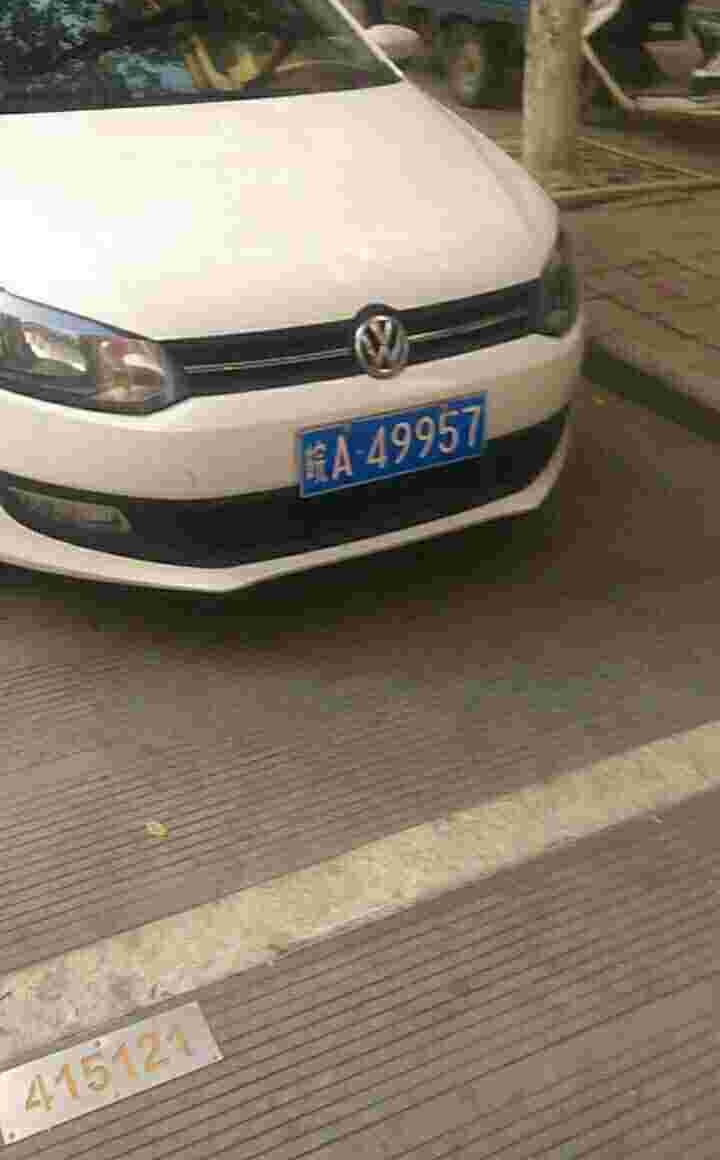license_plate: (303, 395, 491, 503)
